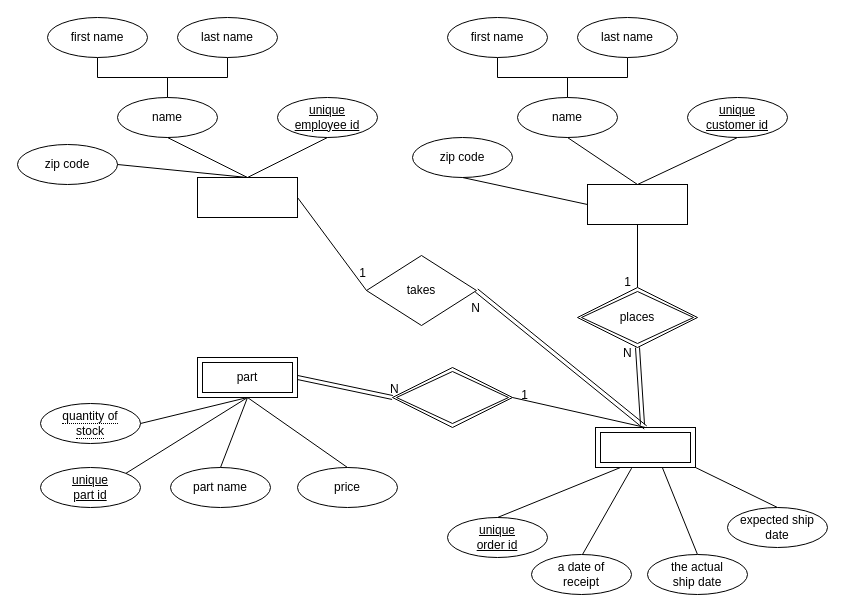
Some shapes in this 845 by 612 pixel diagram are drawn without their labels. The shapes that lost their labels are listed below. From the top down, each one's centre as x and y in pixels, then its label:
pixel 247 197: Employee
pixel 637 204: Customer
pixel 452 397: contains
pixel 645 447: order
